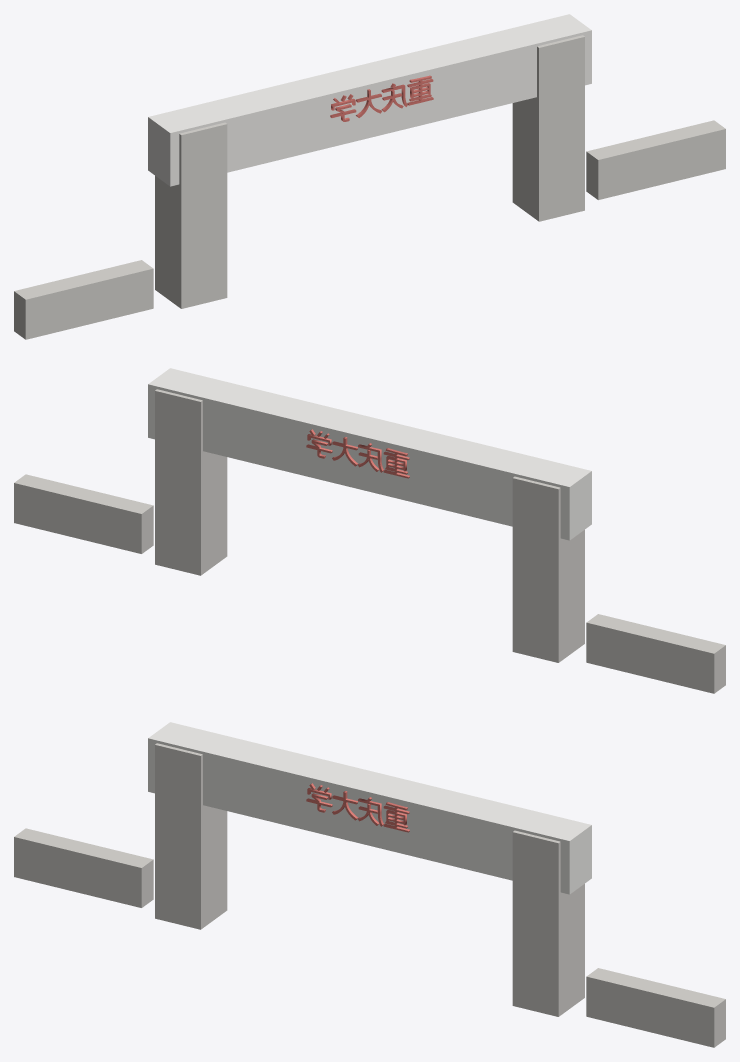
Rendered from gate_west.glb.
3 views of the same model, one above another, from view 1: azimuth 30°, elevation 25°; view 2: azimuth 150°, elevation 25°; view 3: azimuth 330°, elevation 25° (orthographic).
Visible parts, largest first — view 1: gate_south, nm2; view 2: gate_south, nm; view 3: gate_south, nm2.
Part boxes in pixels (bbox=[...]): gate_south: bbox=[14, 14, 725, 339]; nm2: bbox=[330, 75, 433, 121]; gate_south: bbox=[14, 368, 725, 693]; nm: bbox=[306, 429, 409, 478]; gate_south: bbox=[14, 722, 725, 1047]; nm2: bbox=[306, 783, 409, 832].
Size of the model in its own units: 27.4 by 6.6 by 1.8.
